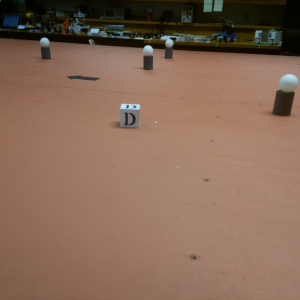obstacle: (273, 74, 296, 115), (141, 45, 154, 70), (39, 37, 51, 59), (164, 39, 174, 59)
